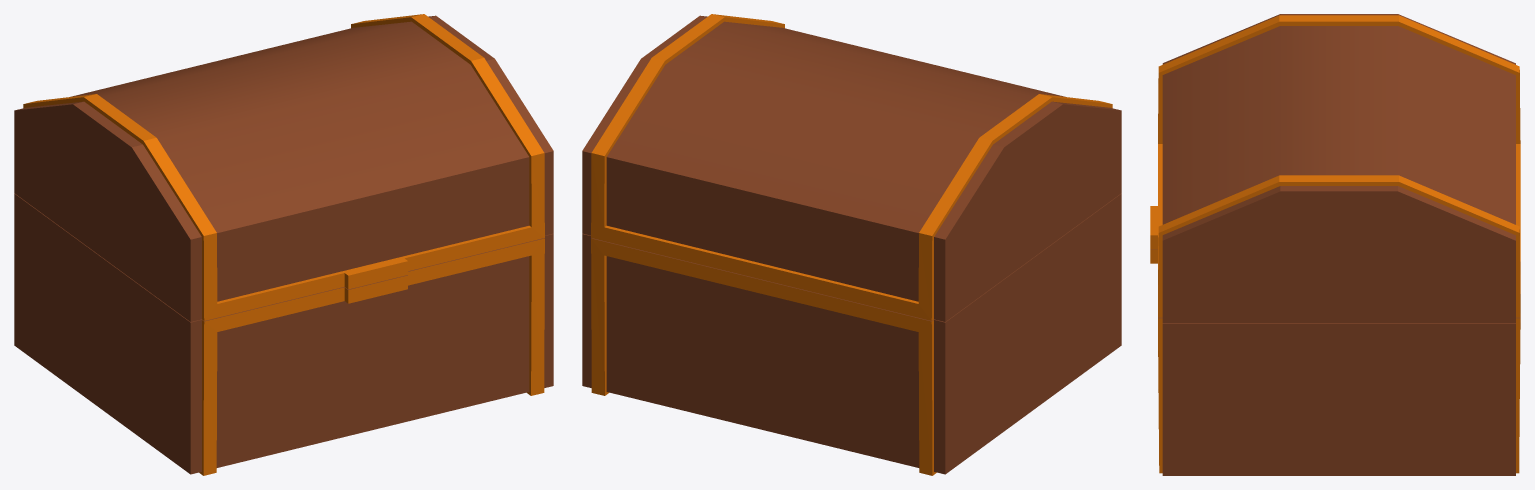
File: chestupdate.FBX
3 views of the same model, side by side, from view 1: azimuth 30°, elevation 25°; view 2: azimuth 150°, elevation 25°; view 3: azimuth 270°, elevation 25° (orthographic).
Parts seen in each view (by area): view 1: chest; view 2: chest; view 3: chest.
Part boxes in pixels (x1,y1,x2,y2): chest: (14,14,553,475); chest: (582,14,1121,475); chest: (1150,14,1520,475).
Size of the model in its own units: 61.09 by 46.81 by 53.84.
